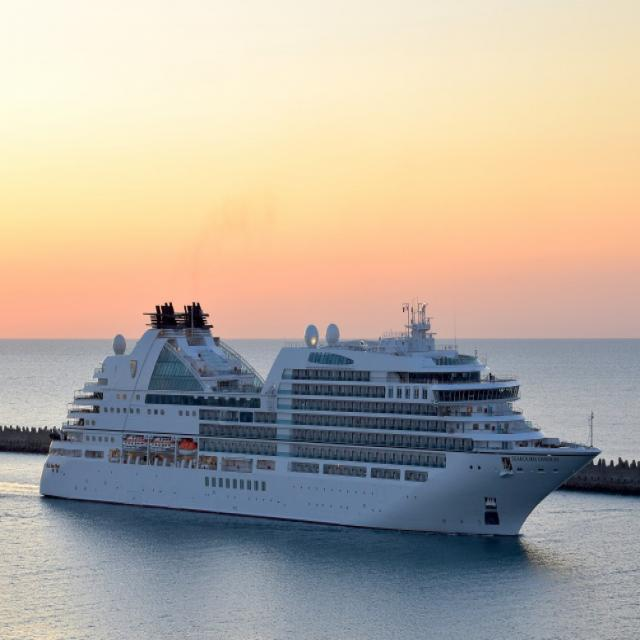cruises: (35, 290, 608, 549)
